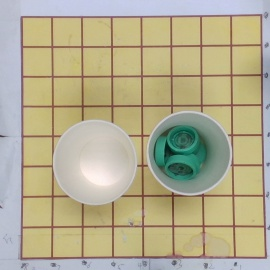cup: (52, 119, 140, 207)
cup_green: (146, 110, 235, 198)
